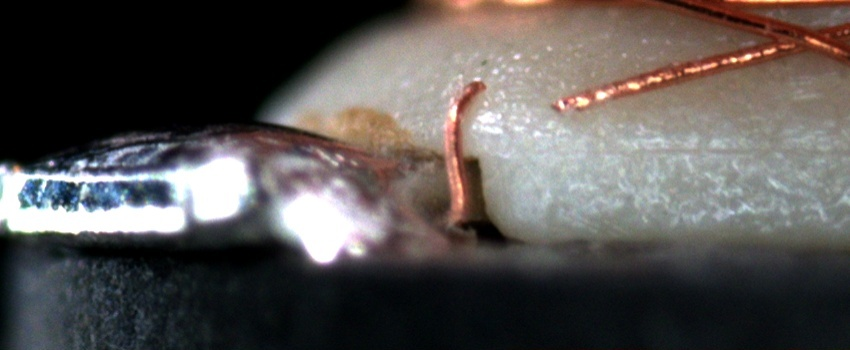CL: (749, 14, 838, 61)
DL: (616, 119, 850, 185)
